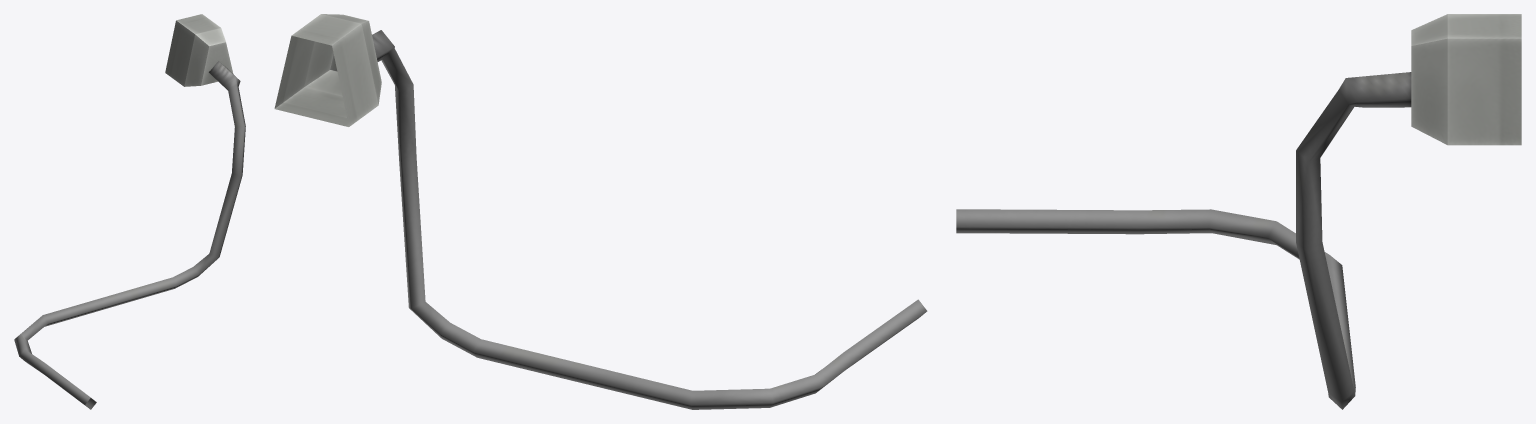
File: SocketCable.fbx
3 views of the same model, side by side, from view 1: azimuth 30°, elevation 25°; view 2: azimuth 150°, elevation 25°; view 3: azimuth 270°, elevation 25° (orthographic). The views are drawn at different scales.
Visible parts, largest first — view 1: SocketCable; view 2: SocketCable; view 3: SocketCable.
Part boxes in pixels (box(x1,y1,x2,y2)): SocketCable: box(14, 14, 245, 409); SocketCable: box(274, 14, 927, 409); SocketCable: box(956, 14, 1521, 409).
Bounding box in the file's own units: 37.53 × 34.65 × 29.58.
